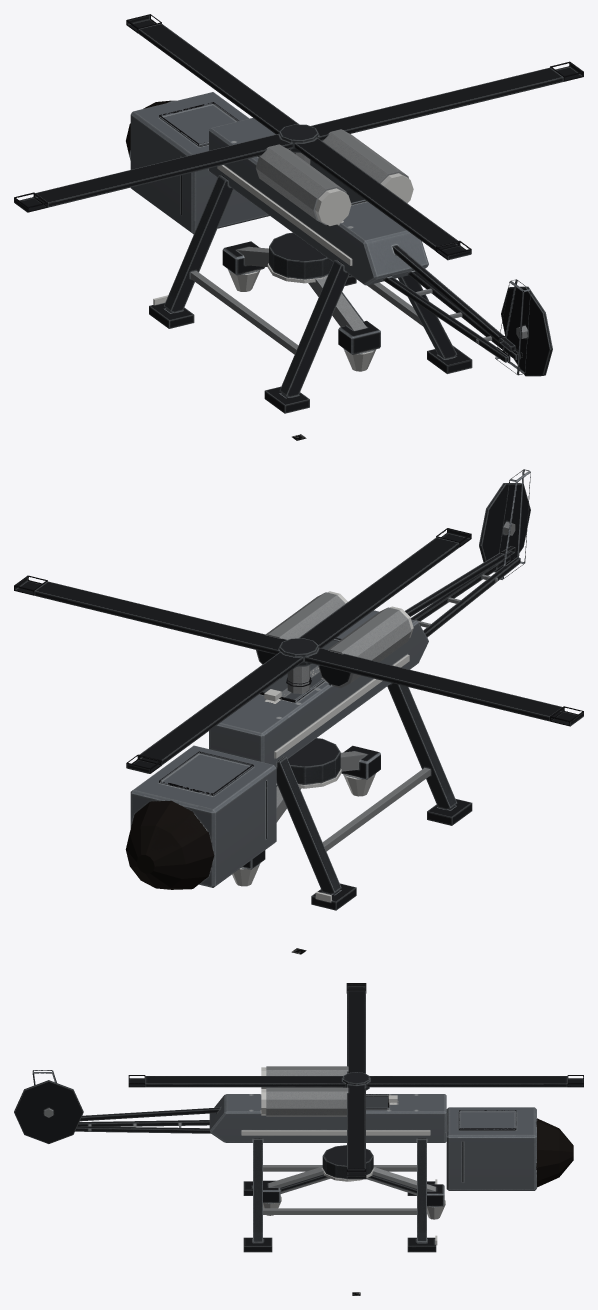
Rendered from chs_condor.fbx.
The picture shows the model from 3 angles, top to bottom: view 1: azimuth 30°, elevation 25°; view 2: azimuth 150°, elevation 25°; view 3: azimuth 270°, elevation 25°; orthographic projection. The views are drawn at different scales.
Visible parts, largest first — view 1: base_bar, rotor_bar, nano_bar, tailRotor_bar, base_glow_running_bar, nano_glow_power_bar; view 2: base_bar, rotor_bar, nano_bar, tailRotor_bar, base_glow_running_bar, nano_glow_power_bar; view 3: base_bar, rotor_bar, tailRotor_bar, nano_bar, base_glow_running_bar, nano_glow_power_bar.
Part boxes in pixels (<box>): base_bar: <box>126,92,530,413</box>; rotor_bar: <box>14,14,583,260</box>; nano_bar: <box>222,232,380,354</box>; tailRotor_bar: <box>501,286,552,376</box>; base_glow_running_bar: <box>153,165,413,304</box>; nano_glow_power_bar: <box>227,263,376,371</box>; base_bar: <box>125,469,530,910</box>; rotor_bar: <box>14,528,583,773</box>; nano_bar: <box>242,738,380,869</box>; tailRotor_bar: <box>479,483,530,572</box>; base_glow_running_bar: <box>264,591,413,902</box>; nano_glow_power_bar: <box>232,768,375,886</box>; base_bar: <box>32,1066,573,1252</box>; rotor_bar: <box>128,983,583,1179</box>; tailRotor_bar: <box>14,1080,83,1143</box>; nano_bar: <box>263,1145,444,1206</box>; base_glow_running_bar: <box>241,1067,437,1245</box>; nano_glow_power_bar: <box>263,1168,445,1219</box>.
Bounding box in the file's own units: 1110 × 600 × 1390.
2 materials, 2 textured.
